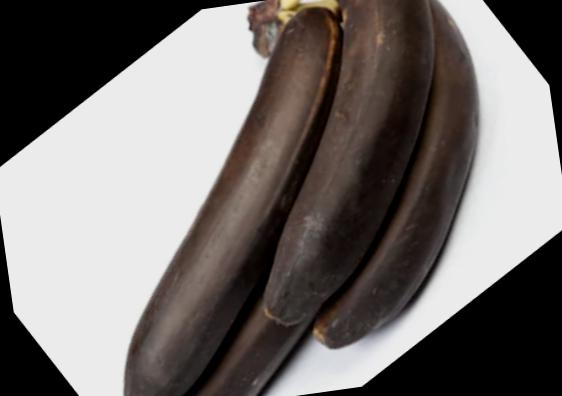Banana Overripe: (31, 0, 539, 396)
